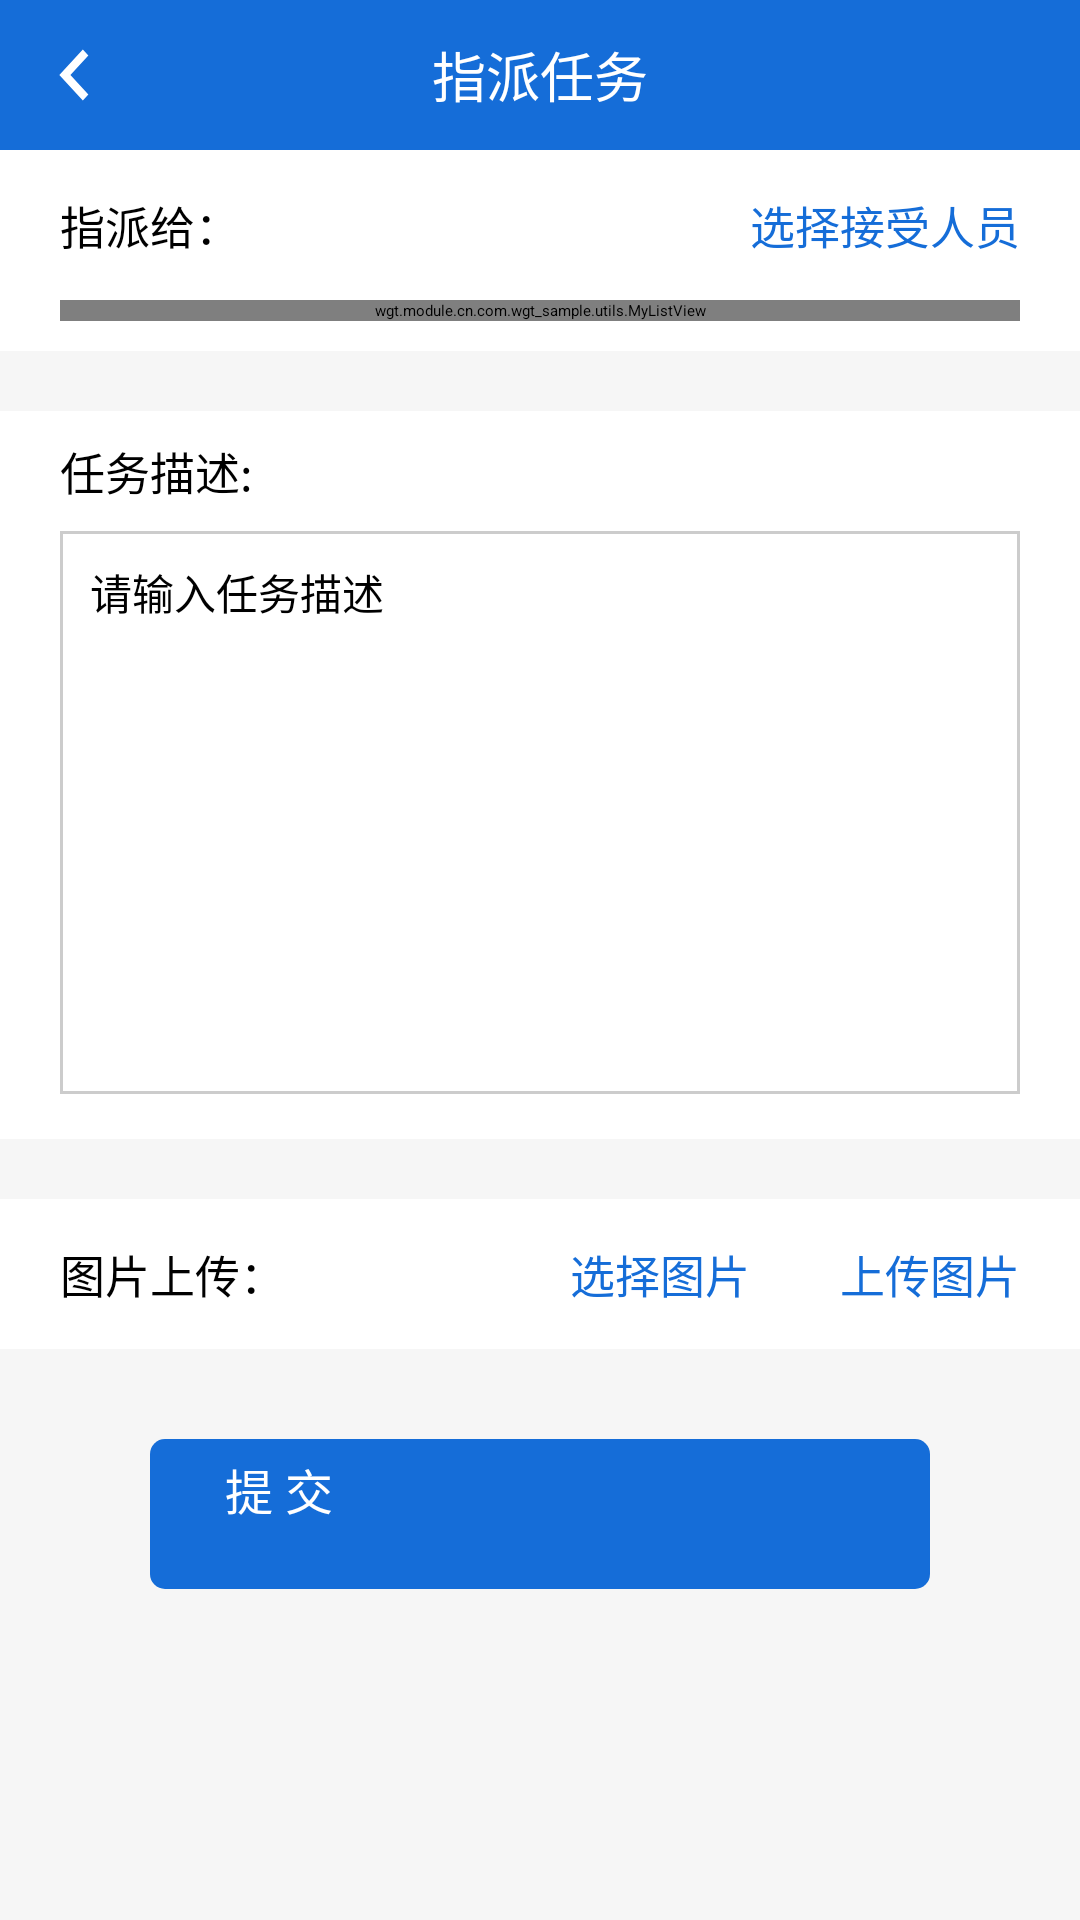

Where to tap for icons on this 1080px×1920px app screen, as [x,y]:
left: [74,75]
